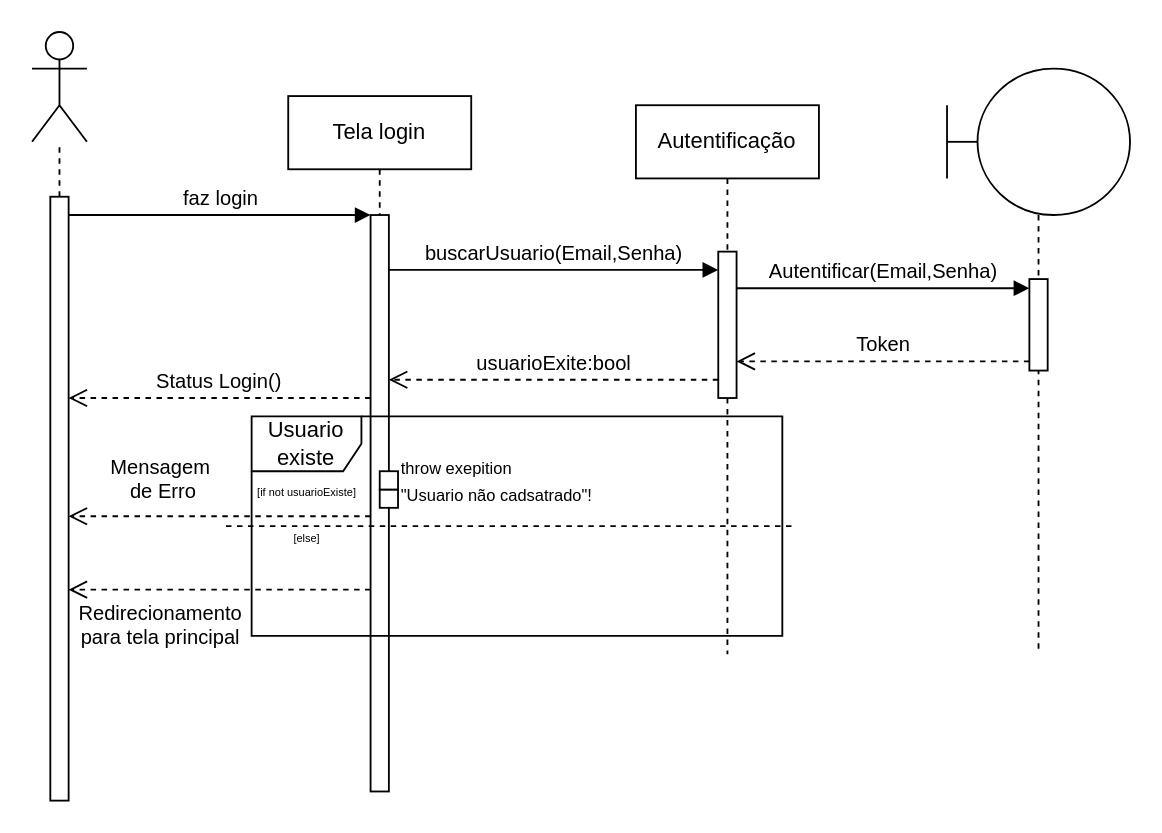
Image size: 1162x833. Some labels were removed from this diagram. The shapes that lost their labels are listed below. From the top down, each one's box as (x1, y1, x2, y2) in pixels, then its label:
(30, 30, 87, 142): ADM
(945, 67, 1130, 215): tbl_usuario
